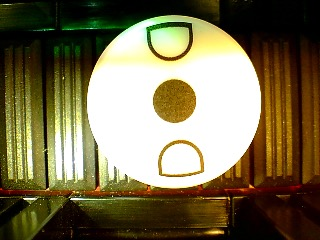BOHOMIPO2: (86, 15, 262, 188)
